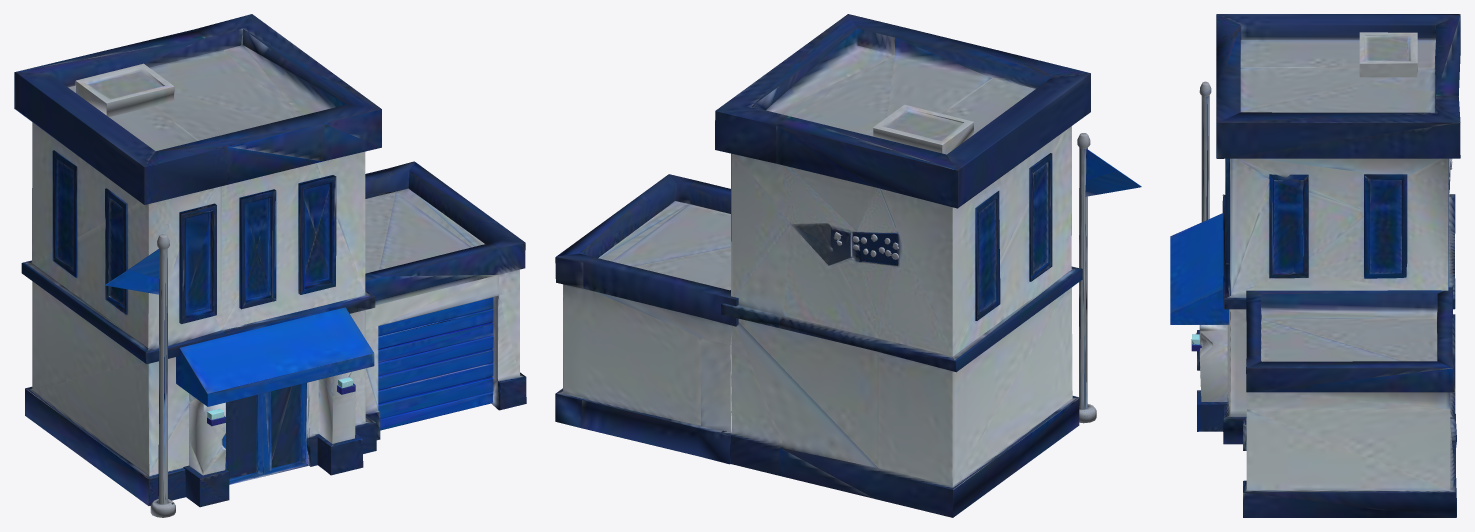
The model's file is 29-police-station.glb.
3 renders of one model, left to right at view 1: azimuth 30°, elevation 25°; view 2: azimuth 150°, elevation 25°; view 3: azimuth 270°, elevation 25°, orthographic. The views are drawn at different scales.
Parts seen in each view (by area): view 1: geometry_0; view 2: geometry_0; view 3: geometry_0.
Boxes of the visible parts, x1=… form: geometry_0: x1=14, y1=14, x2=526, y2=517; geometry_0: x1=555, y1=14, x2=1141, y2=517; geometry_0: x1=1170, y1=14, x2=1460, y2=517.
Size of the model in its own units: 0.9507 by 0.7104 by 0.5777.
1 material, 1 textured.
